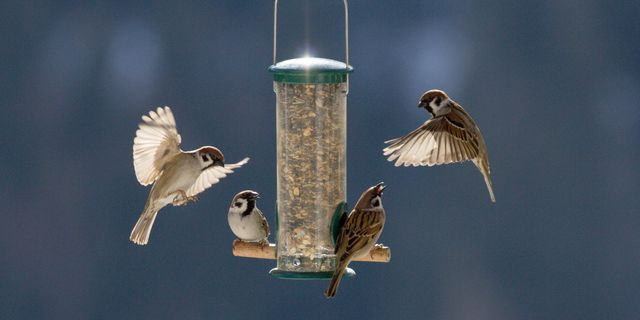bird: (113, 100, 254, 253), (374, 79, 518, 214), (316, 173, 391, 302), (218, 185, 276, 258)
